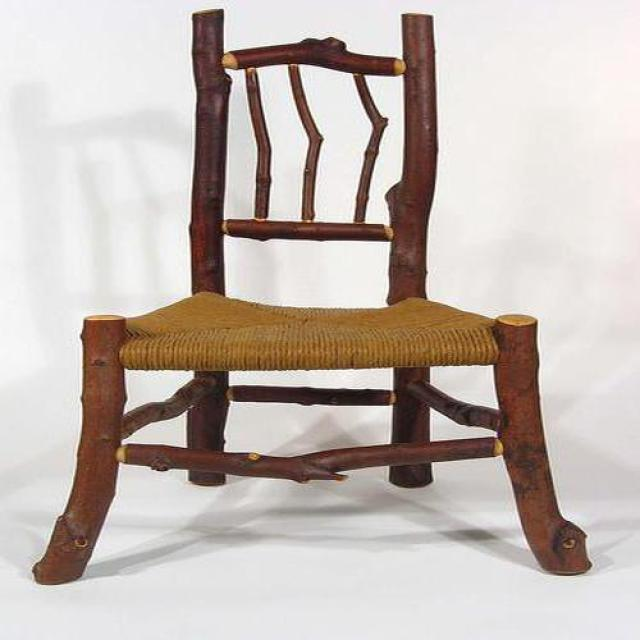chair: (32, 9, 593, 588)
